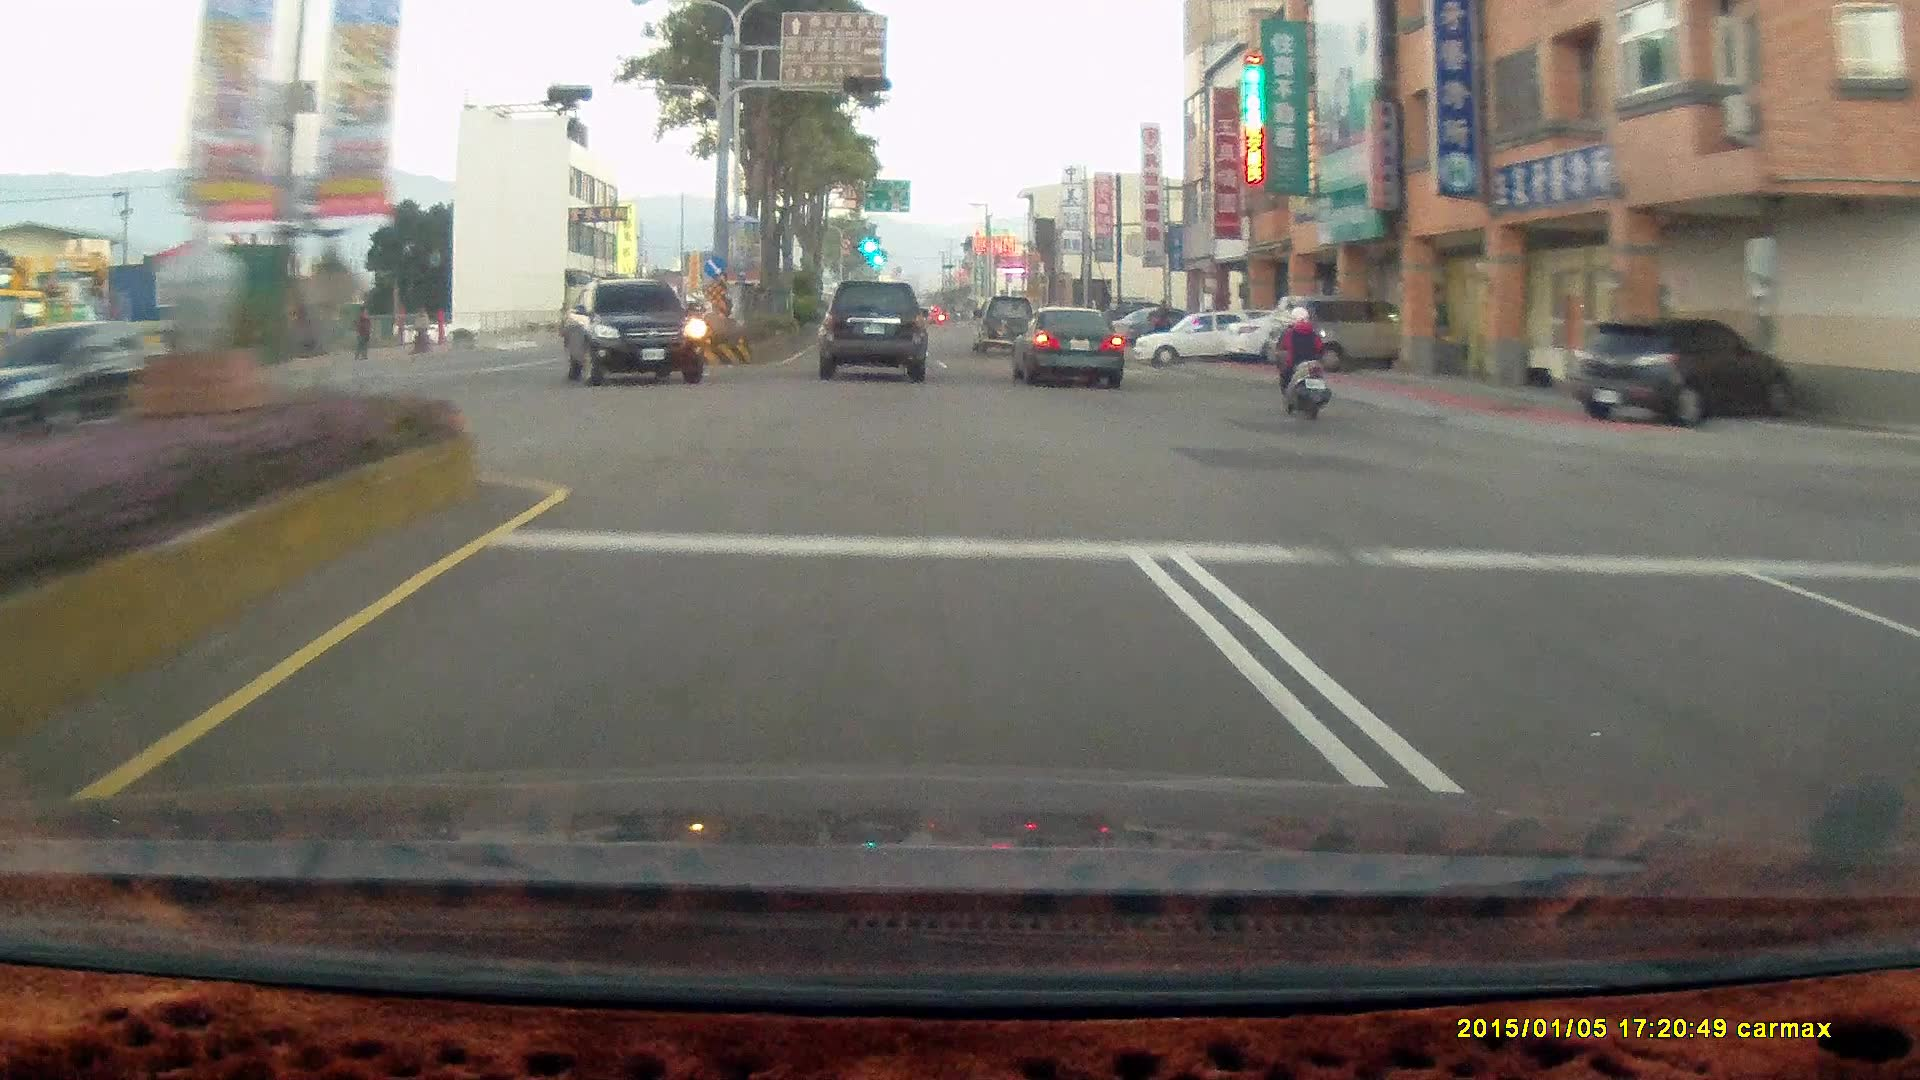pedestrian: (352, 305, 372, 361)
rider: (1262, 294, 1341, 428), (1271, 299, 1332, 414)
vehicle: (1577, 316, 1796, 427), (1575, 319, 1792, 421), (0, 320, 175, 436), (7, 318, 181, 432), (564, 277, 708, 385), (562, 277, 703, 384), (1261, 294, 1435, 370), (823, 277, 933, 379), (817, 282, 927, 384), (1261, 295, 1409, 370), (1009, 302, 1131, 385), (1007, 303, 1122, 387), (1141, 303, 1275, 368), (1132, 307, 1268, 365), (970, 290, 1038, 350), (1113, 302, 1202, 344)
